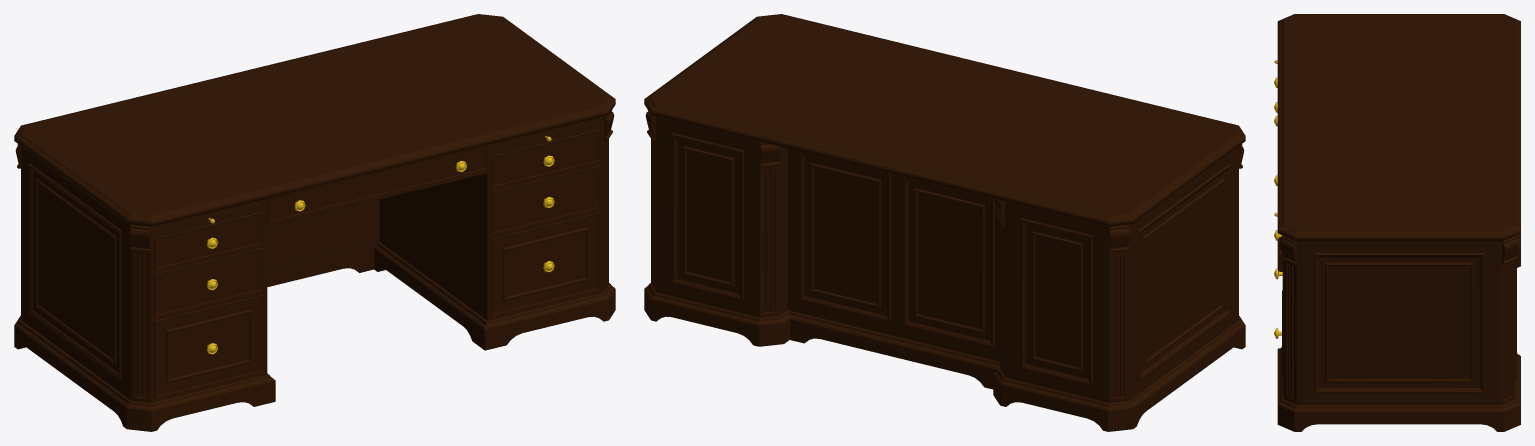
Rendered from model_Historical_OfficeDesk.fbx.
The picture shows the model from 3 angles, left to right: view 1: azimuth 30°, elevation 25°; view 2: azimuth 150°, elevation 25°; view 3: azimuth 270°, elevation 25°; orthographic projection. The views are drawn at different scales.
Visible parts, largest first — view 1: 10240_Office_Desk_v3_max2011; view 2: 10240_Office_Desk_v3_max2011; view 3: 10240_Office_Desk_v3_max2011.
Part boxes in pixels (x1=…): 10240_Office_Desk_v3_max2011: x1=14, y1=14, x2=615, y2=431; 10240_Office_Desk_v3_max2011: x1=644, y1=14, x2=1245, y2=431; 10240_Office_Desk_v3_max2011: x1=1274, y1=14, x2=1520, y2=431.
Bounding box in the file's own units: 2328 × 969 × 1095.
